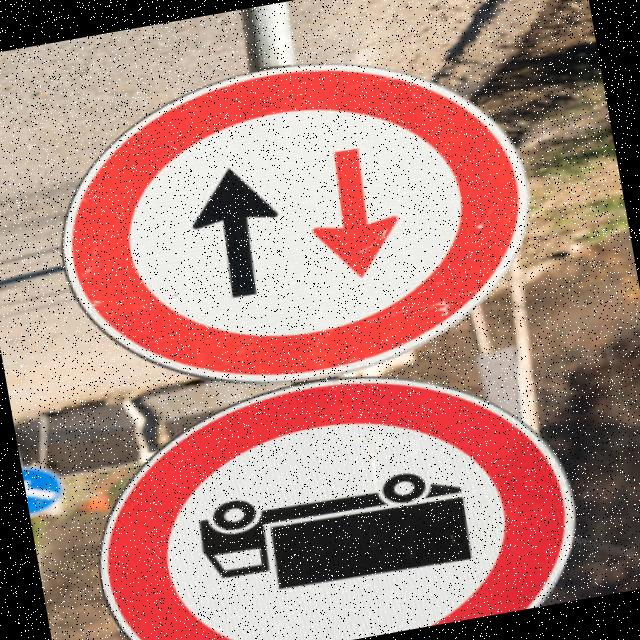do_not_enter: (65, 329, 610, 640)
